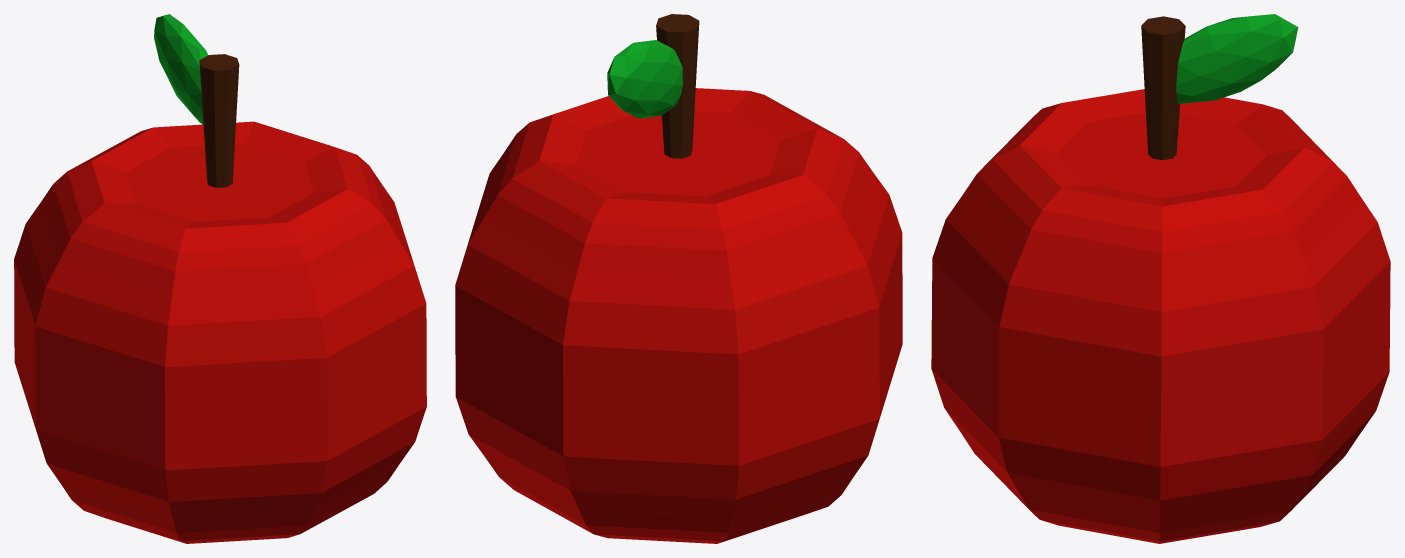
File: Apple.fbx
3 views of the same model, side by side, from view 1: azimuth 30°, elevation 25°; view 2: azimuth 150°, elevation 25°; view 3: azimuth 270°, elevation 25° (orthographic). The views are drawn at different scales.
Visible parts, largest first — view 1: Icosphere; view 2: Icosphere; view 3: Icosphere.
Boxes of the visible parts, x1,y1,x2,y2 form: Icosphere: (14, 14, 426, 543); Icosphere: (455, 14, 902, 543); Icosphere: (931, 14, 1390, 543).
Bounding box in the file's own units: 43.77 × 49.47 × 43.86.
